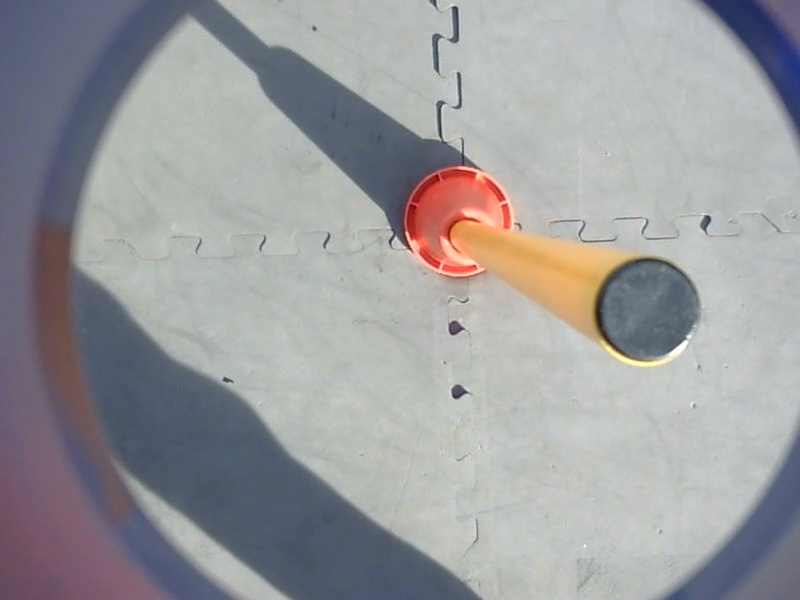tip: (582, 250, 709, 375)
